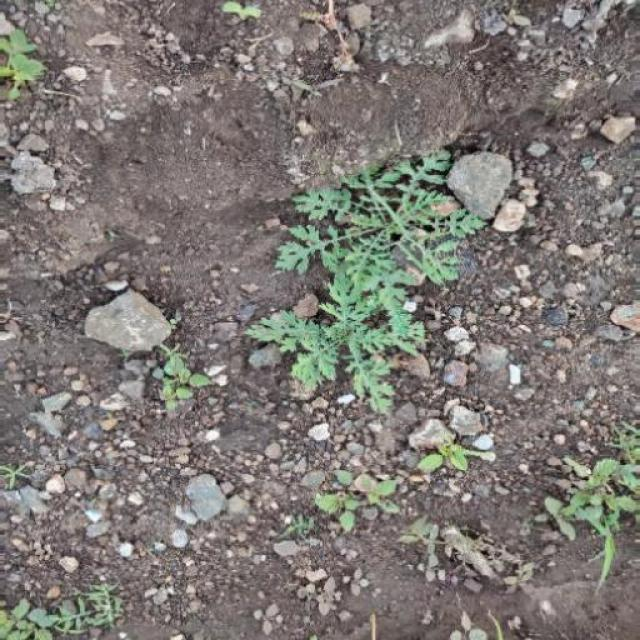weed: (259, 162, 481, 416)
